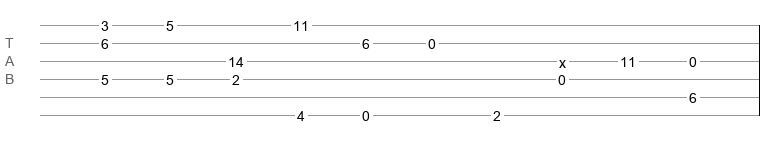0: (362, 108, 370, 118), (428, 36, 436, 46), (558, 72, 566, 82), (689, 54, 697, 64)
11: (293, 18, 309, 28), (620, 54, 636, 64)
14: (228, 54, 244, 64)
2: (232, 72, 240, 82), (493, 108, 501, 118)
3: (101, 18, 109, 28)
4: (297, 108, 305, 118)
5: (101, 72, 109, 82), (166, 72, 174, 82), (166, 18, 174, 28)
6: (101, 36, 109, 46), (362, 36, 370, 46), (689, 90, 697, 100)
x: (559, 55, 566, 63)
